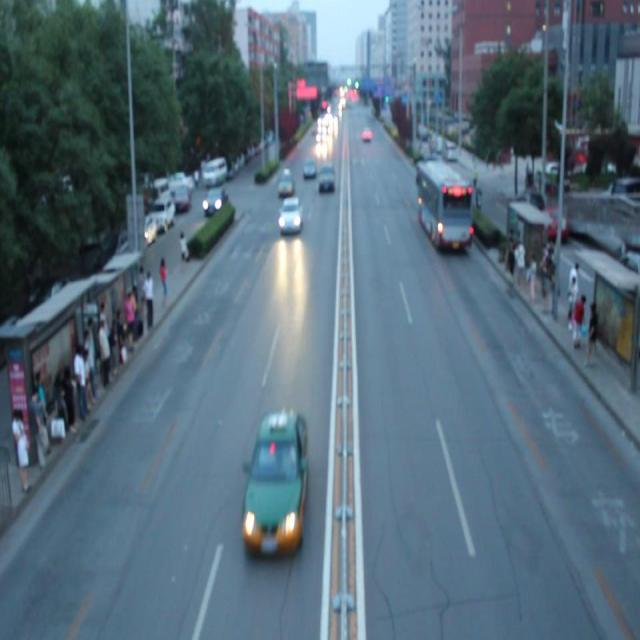car: (244, 412, 308, 549), (280, 198, 301, 230), (278, 169, 293, 195), (318, 167, 334, 190), (303, 161, 316, 178)
van: (414, 160, 470, 250)
